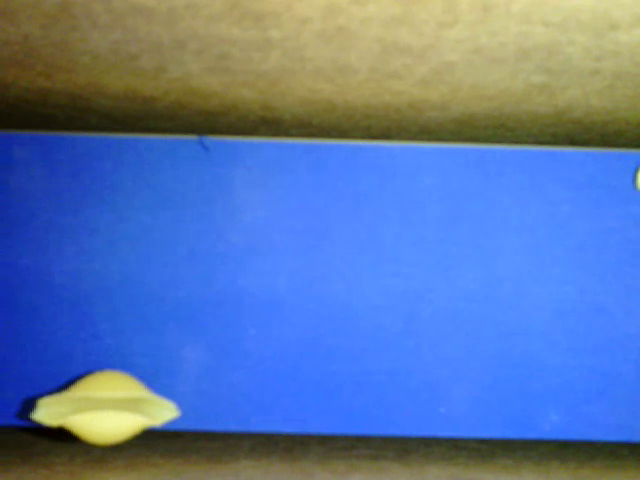shell: (27, 370, 182, 444)
